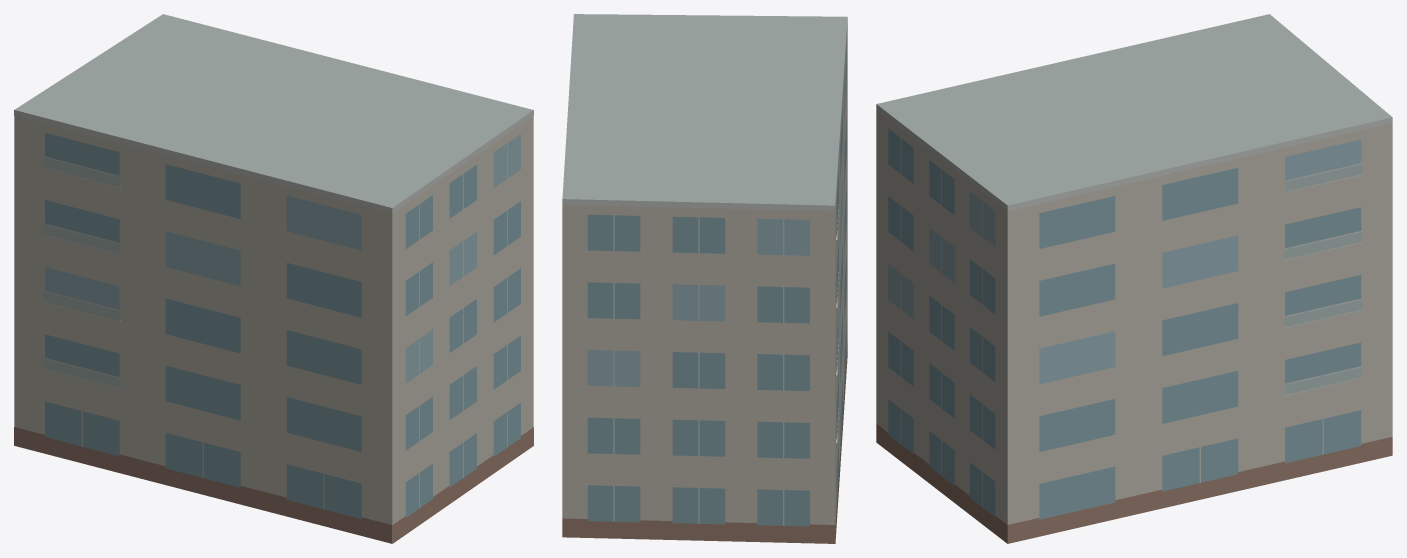
File: survey-upis-32667757.glb
3 renders of one model, left to right at view 1: azimuth 30°, elevation 25°; view 2: azimuth 150°, elevation 25°; view 3: azimuth 270°, elevation 25°, orthographic.
Visible parts, largest first — view 1: survey-upis-32667757.tmp; view 2: survey-upis-32667757.tmp; view 3: survey-upis-32667757.tmp.
Boxes of the visible parts, x1,y1,x2,y2 form: survey-upis-32667757.tmp: [14, 14, 533, 543]; survey-upis-32667757.tmp: [562, 14, 847, 543]; survey-upis-32667757.tmp: [876, 14, 1392, 543].
Bounding box in the file's own units: 17.25 × 14.2 × 19.65.
